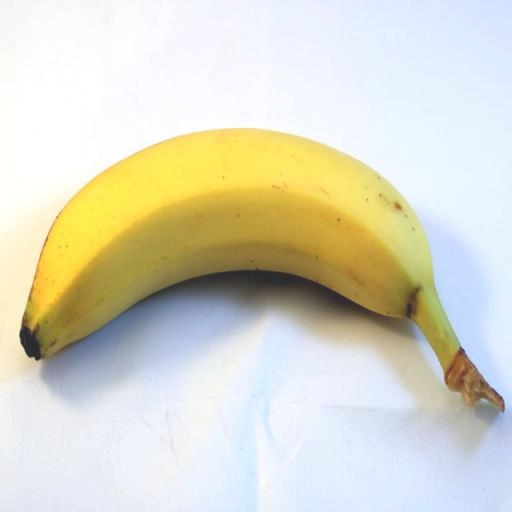fruit: (20, 129, 503, 410)
